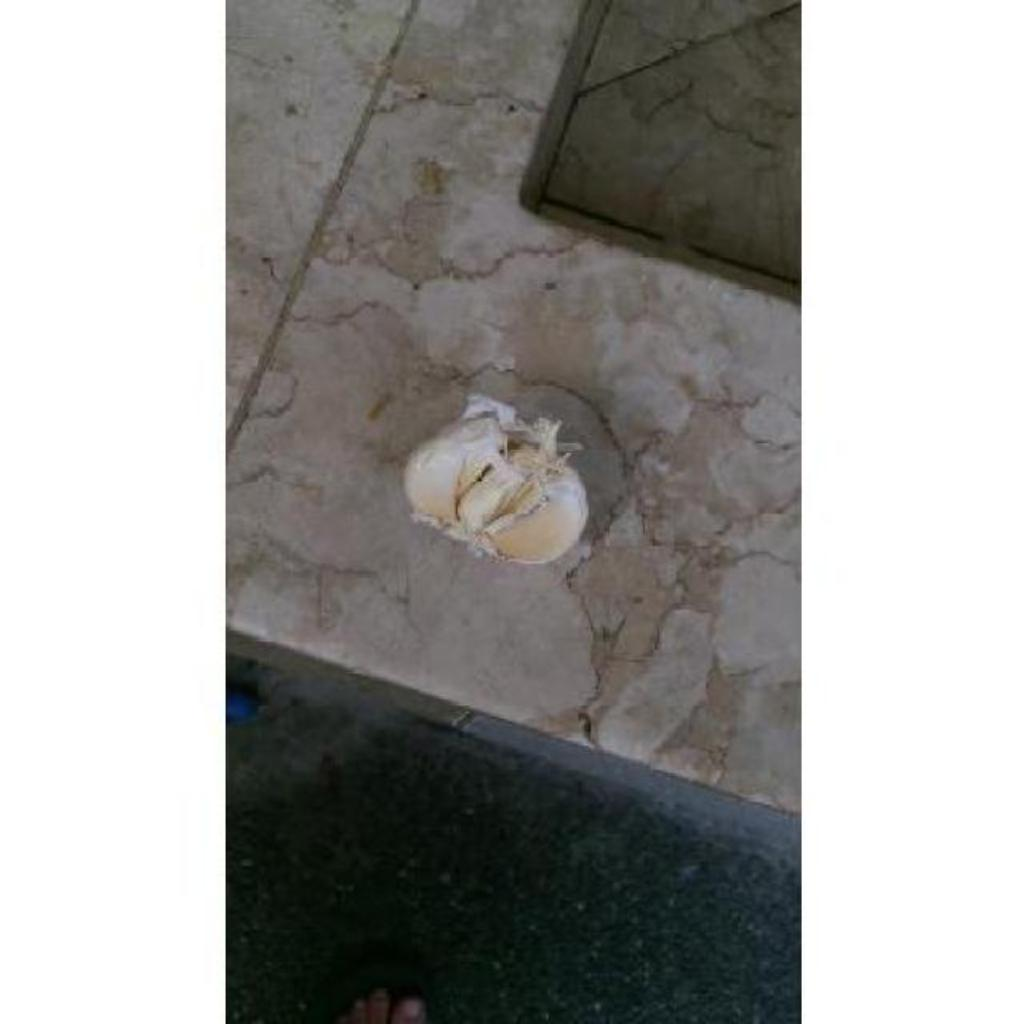garlic: (404, 396, 588, 563)
